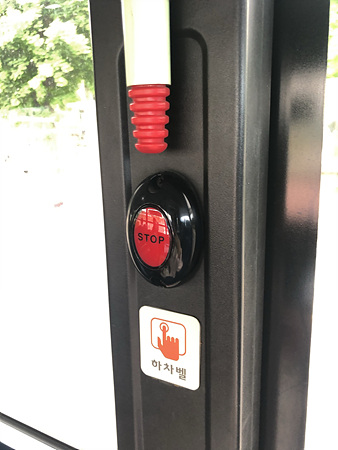bell: (126, 170, 204, 286)
